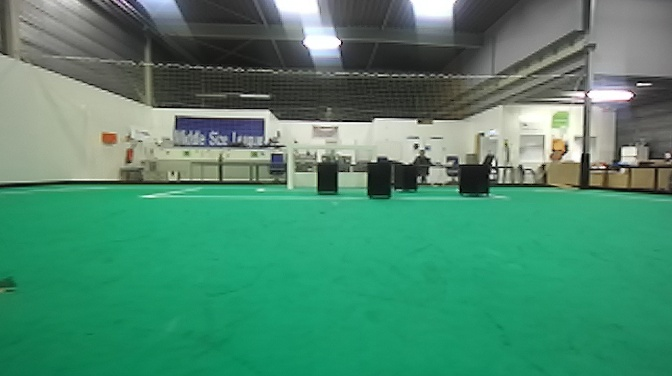goalpost: (285, 144, 297, 195)
